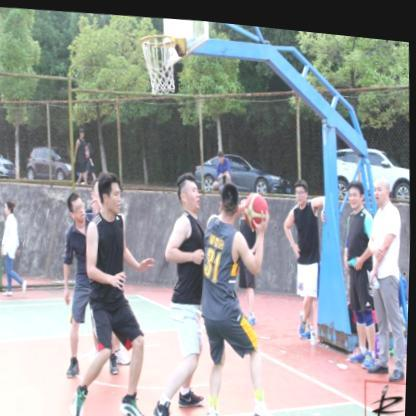basketball: (244, 185, 269, 221)
